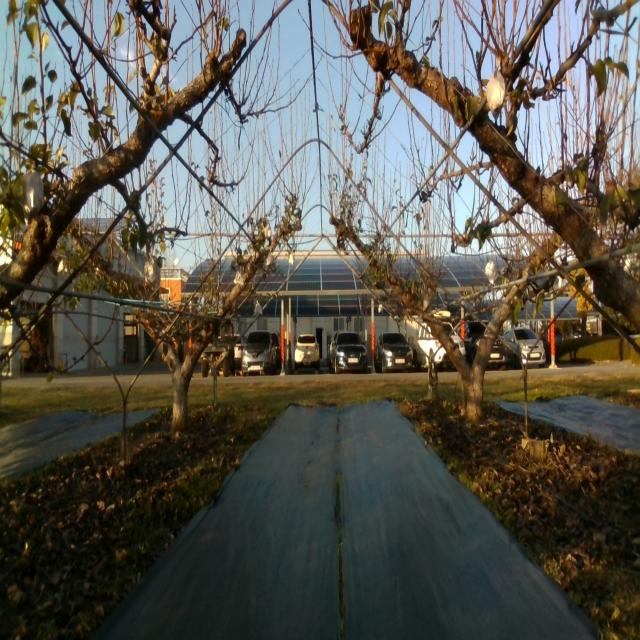pearbags: (22, 168, 44, 214), (486, 69, 505, 120), (144, 256, 161, 287), (485, 260, 497, 286)
